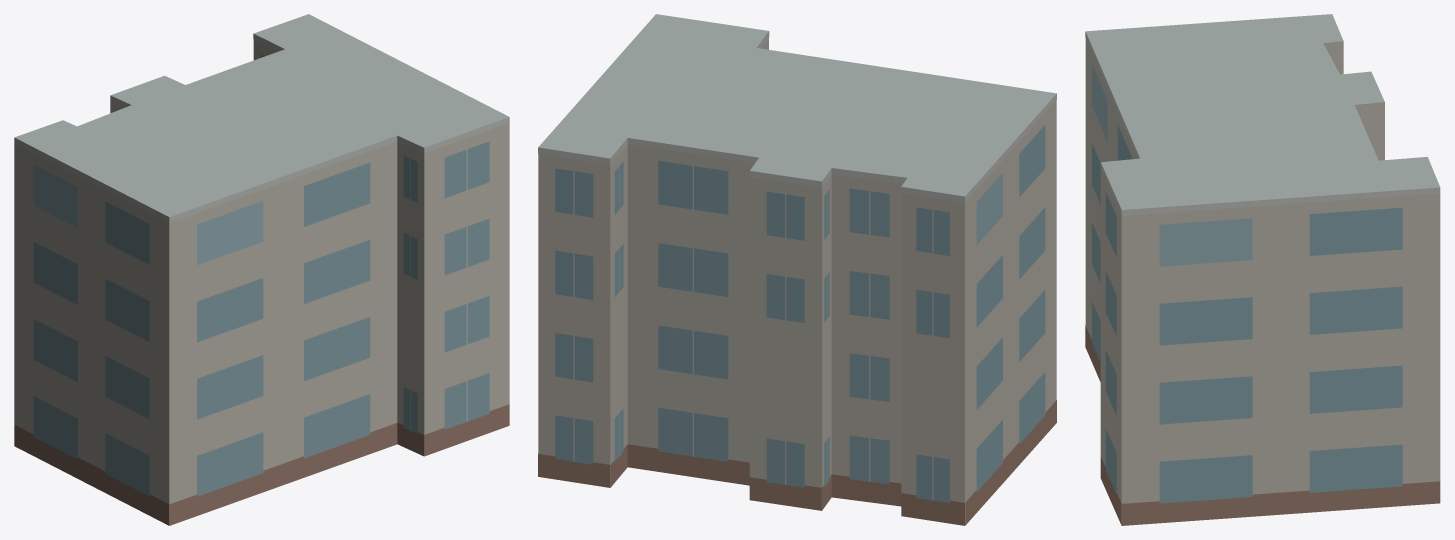
Rendered from survey-upis-32688343.glb.
The picture shows the model from 3 angles, left to right: view 1: azimuth 30°, elevation 25°; view 2: azimuth 150°, elevation 25°; view 3: azimuth 270°, elevation 25°; orthographic projection. The views are drawn at different scales.
Visible parts, largest first — view 1: survey-upis-32688343.tmp; view 2: survey-upis-32688343.tmp; view 3: survey-upis-32688343.tmp.
Part boxes in pixels (x1=…): survey-upis-32688343.tmp: x1=14, y1=14, x2=509, y2=525; survey-upis-32688343.tmp: x1=538, y1=14, x2=1056, y2=525; survey-upis-32688343.tmp: x1=1085, y1=14, x2=1440, y2=525.
Bounding box in the file's own units: 17.04 × 12.8 × 13.04.
